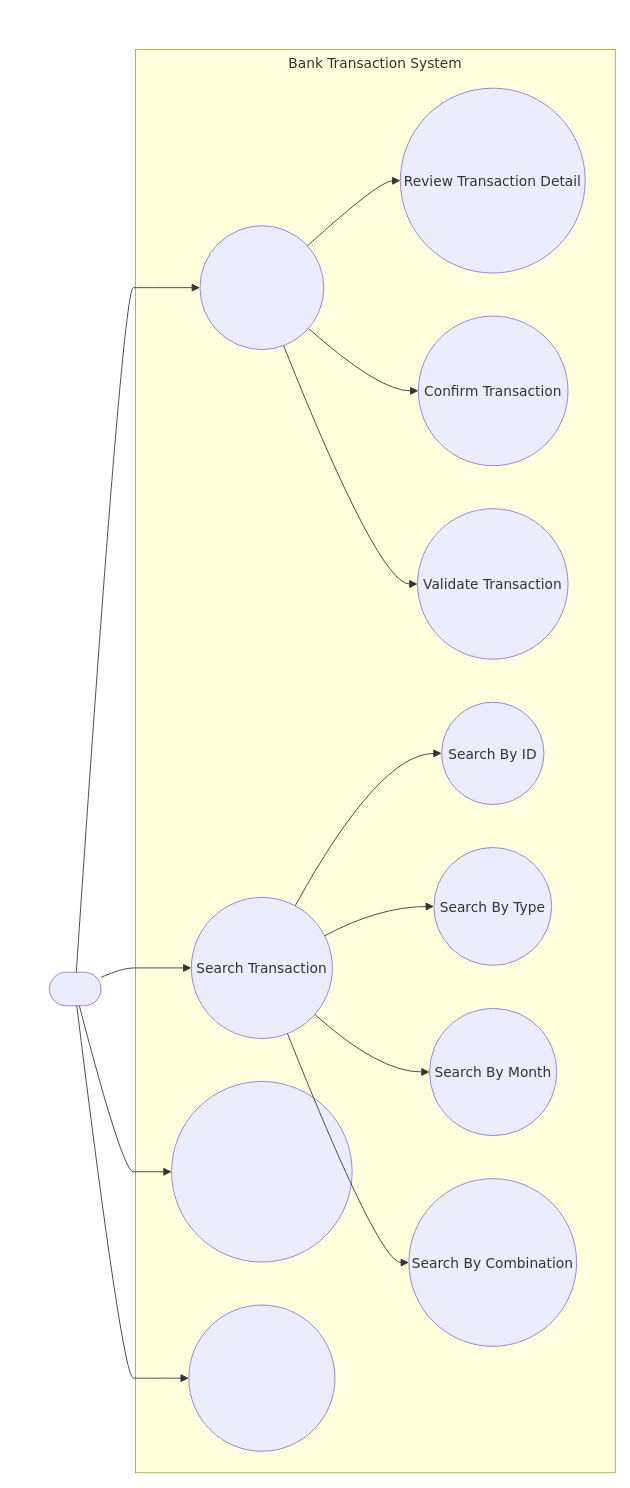
Image size: 630x1488. Some labels were removed from this diagram. The centre of each missing label's shape, as x and y in pixels:
"Add Transaction" goes at [261,287].
"Add User / Account" goes at [261,1377].
"Generate Monthly Report" goes at [261,1171].
"User" goes at [75,988].
